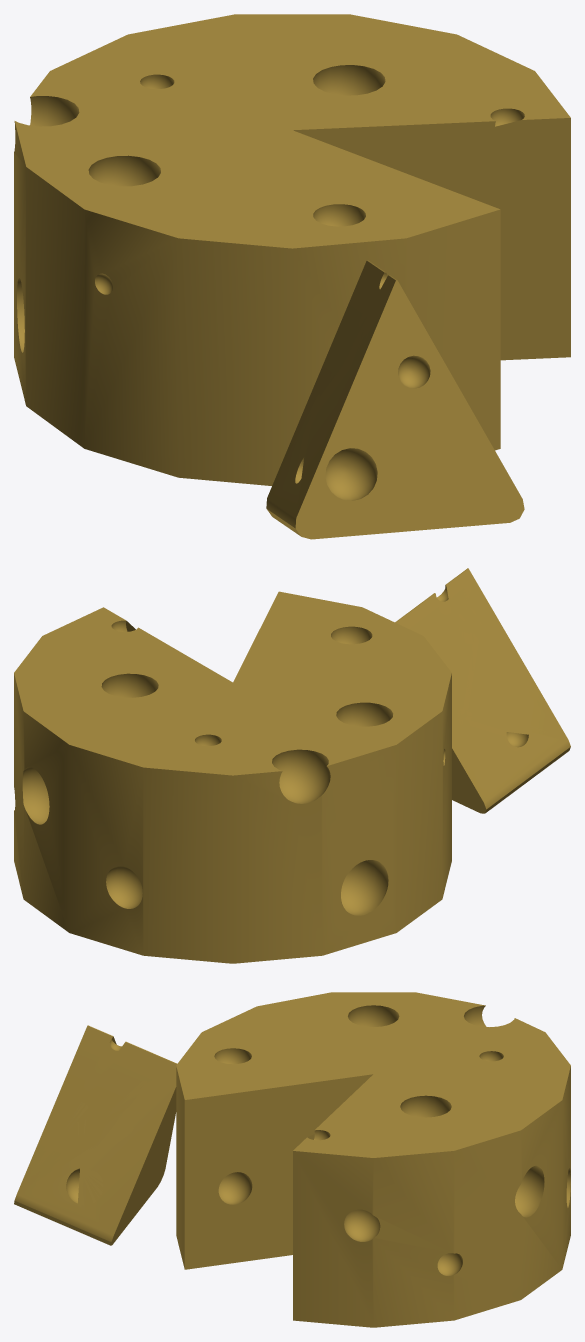
Rendered from Cheese.fbx.
3 renders of one model, top to bottom at view 1: azimuth 30°, elevation 25°; view 2: azimuth 150°, elevation 25°; view 3: azimuth 270°, elevation 25°, orthographic. The views are drawn at different scales.
Parts seen in each view (by area): view 1: giant_cheese, slice_cheese; view 2: giant_cheese, slice_cheese; view 3: giant_cheese, slice_cheese.
Boxes of the visible parts, bbox=[...] form: giant_cheese: bbox=[14, 14, 570, 485]; slice_cheese: bbox=[266, 260, 524, 539]; giant_cheese: bbox=[14, 591, 451, 963]; slice_cheese: bbox=[395, 568, 570, 813]; giant_cheese: bbox=[176, 992, 570, 1327]; slice_cheese: bbox=[14, 1025, 176, 1245].
Bounding box in the file's own units: 0.5987 × 0.3109 × 0.8492.
